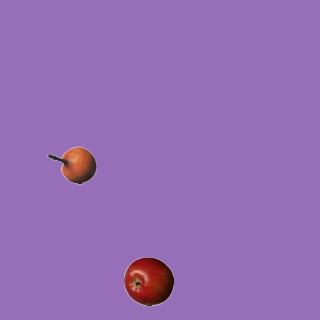Apple Braeburn: (123, 256, 173, 306)
Granadilla: (46, 140, 96, 190)
